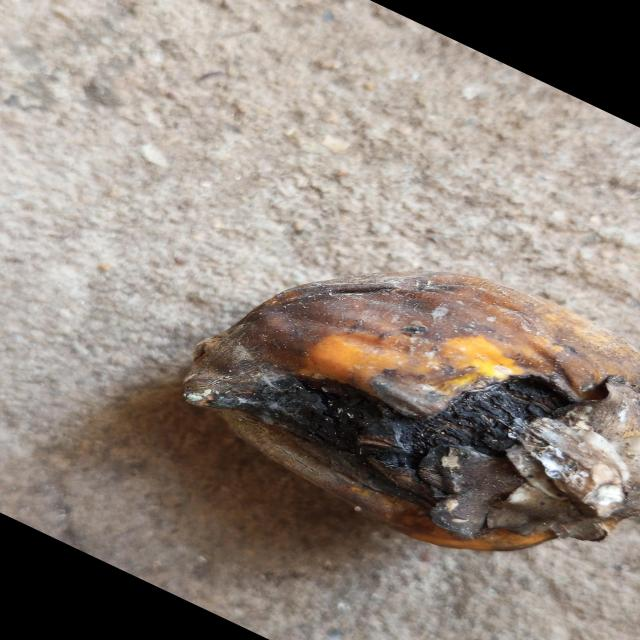damaged: (183, 272, 640, 555)
